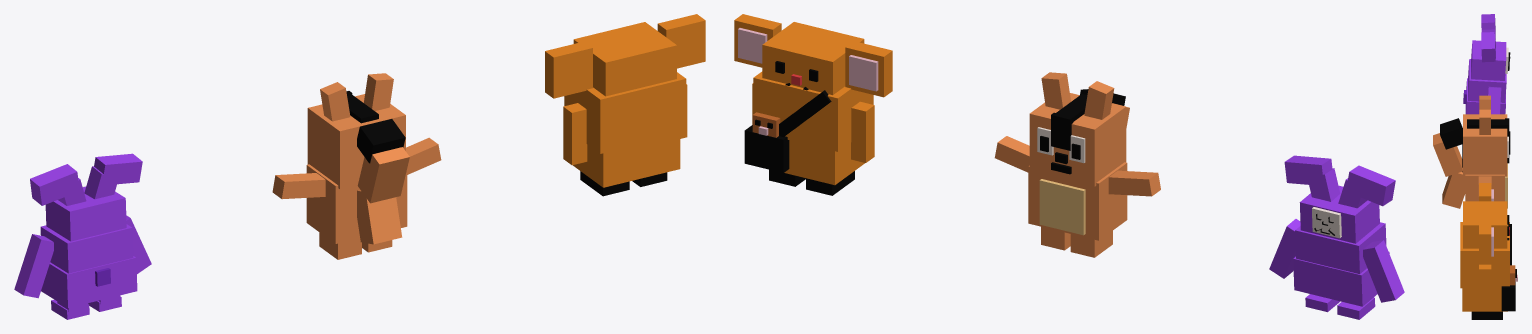
The model's file is characters.obj.
The picture shows the model from 3 angles, left to right: view 1: azimuth 30°, elevation 25°; view 2: azimuth 150°, elevation 25°; view 3: azimuth 270°, elevation 25°; orthographic projection. The views are drawn at different scales.
Size of the model in its own units: 7.57 by 1.77 by 1.19.
